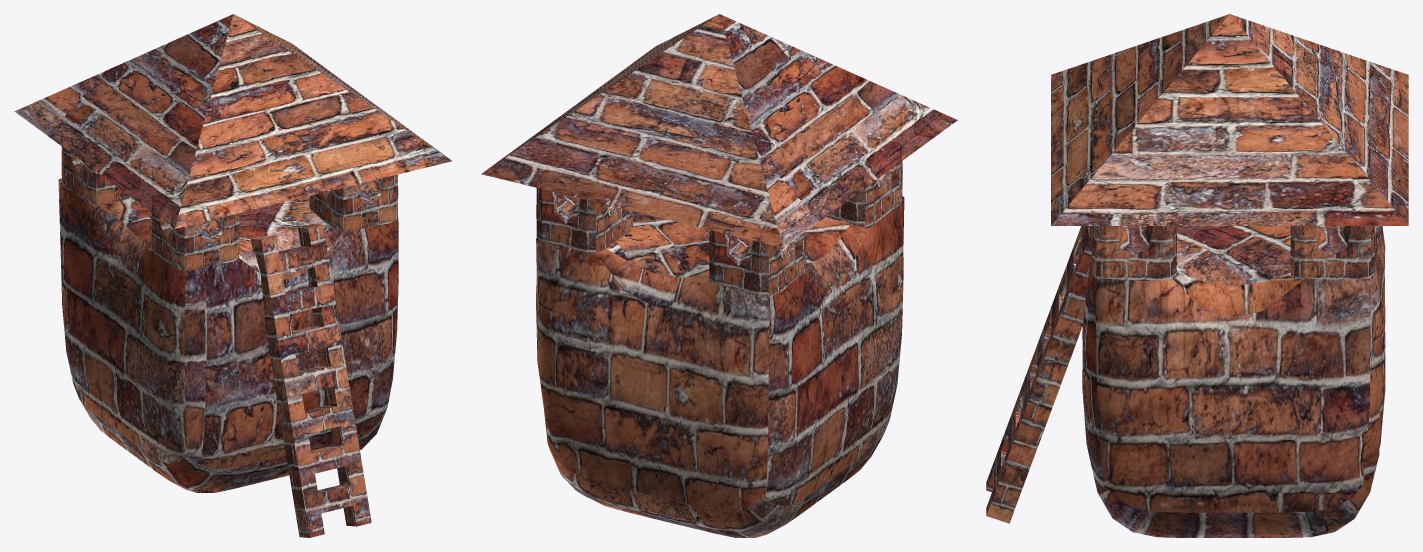
The model's file is TorrettaCentrale.fbx.
3 views of the same model, side by side, from view 1: azimuth 30°, elevation 25°; view 2: azimuth 150°, elevation 25°; view 3: azimuth 270°, elevation 25° (orthographic). The views are drawn at different scales.
Parts seen in each view (by area): view 1: TorrettaUnita.001; view 2: TorrettaUnita.001; view 3: TorrettaUnita.001.
Part boxes in pixels (bbox=[...]): TorrettaUnita.001: bbox=[14, 14, 452, 537]; TorrettaUnita.001: bbox=[481, 14, 957, 537]; TorrettaUnita.001: bbox=[986, 14, 1408, 537].
Size of the model in its own units: 422 by 642 by 498.
